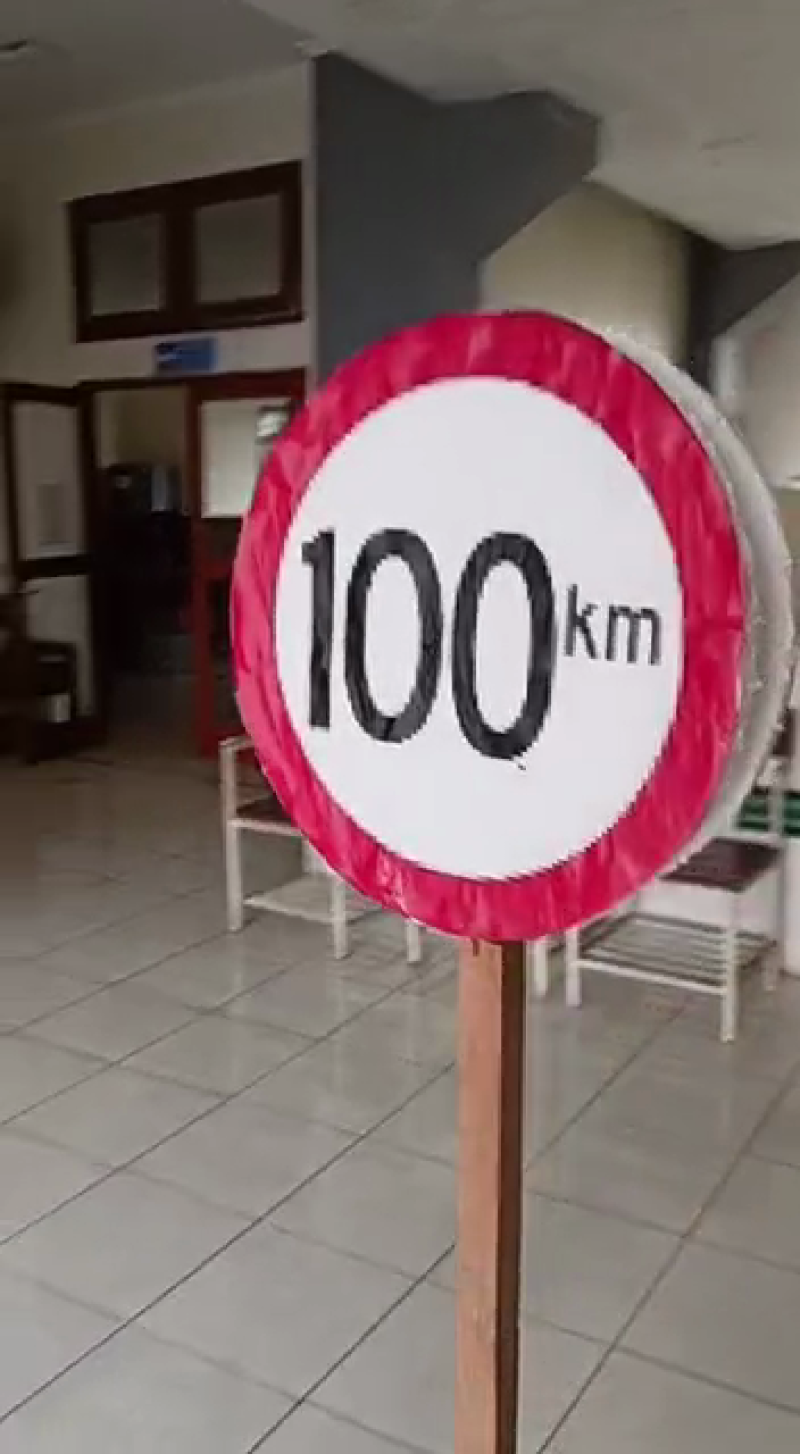batas maksimal 100kmperjam: (208, 296, 772, 964)
